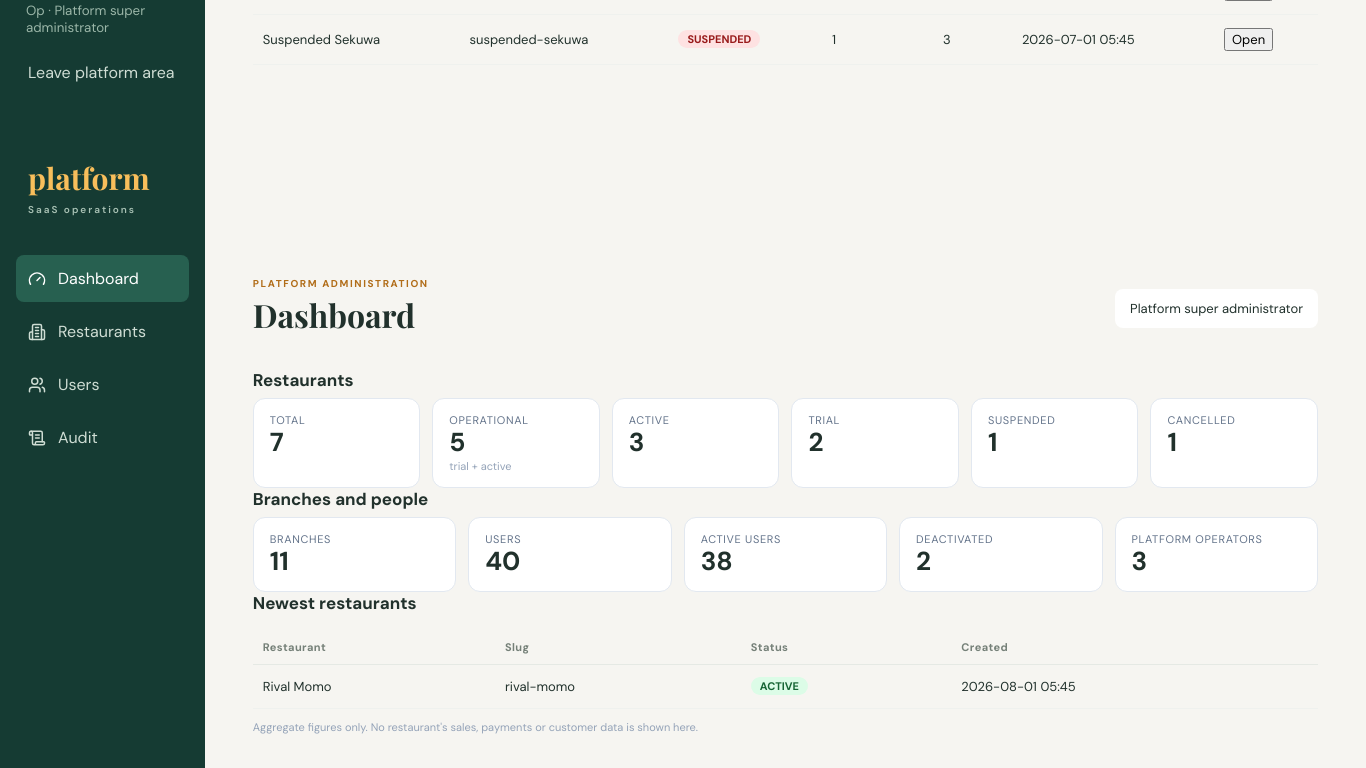
P2B UI · users › shows identity, membership, role and platform standing
The width and height of the screenshot is (1366, 768).
(page scrolled)
Click the button "Users": point(102, 384) left=16, top=361, right=189, bottom=408
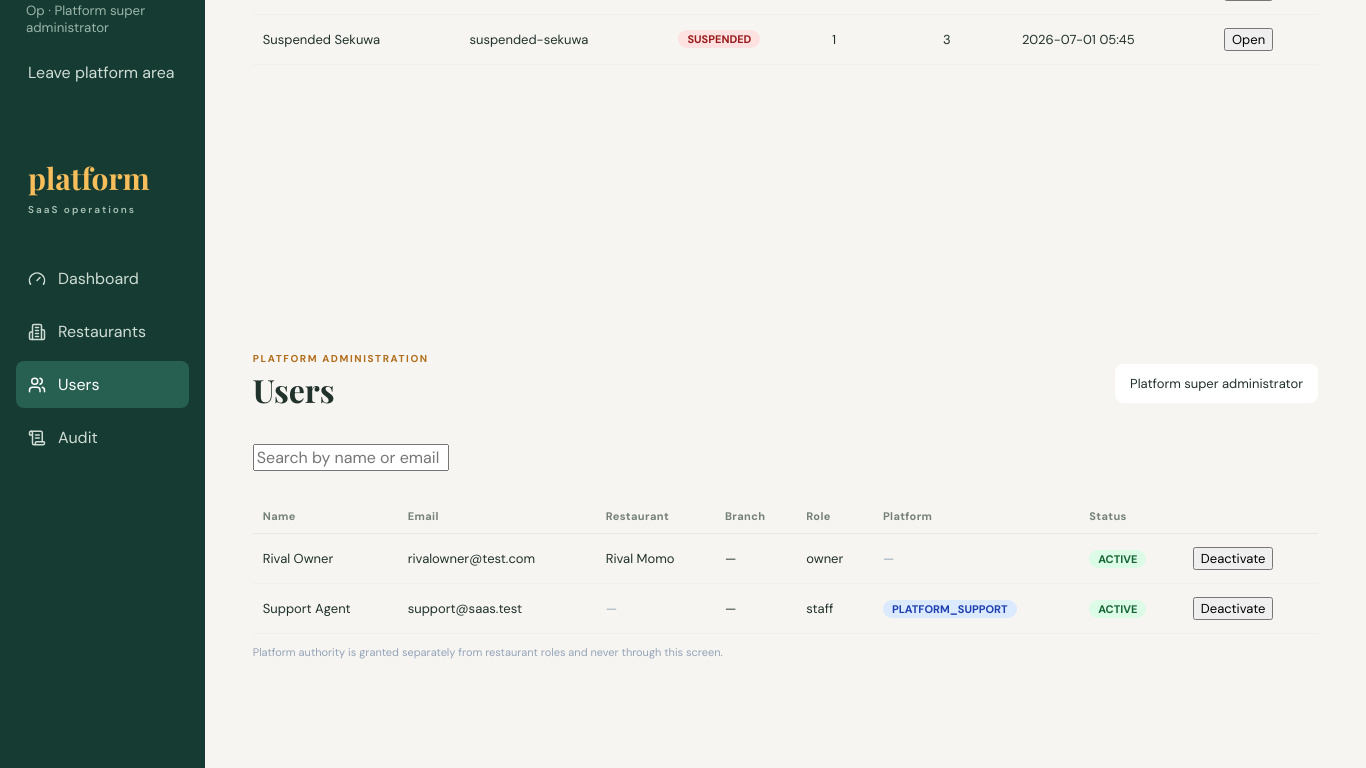
Expected: the text "platform_support" is shown, left=883, top=600, right=1017, bottom=618
